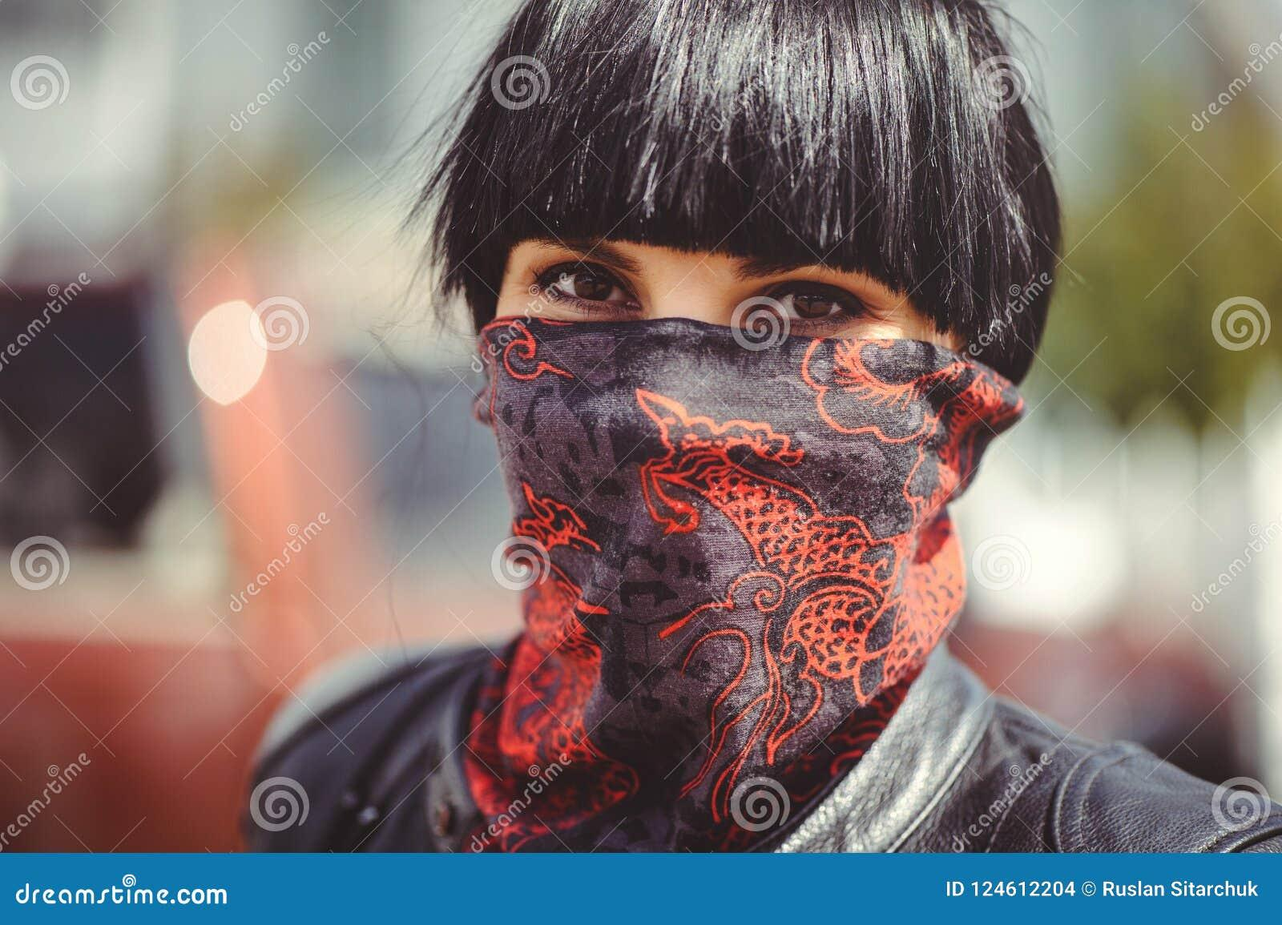scarf-kerchief: (462, 296, 1044, 833)
